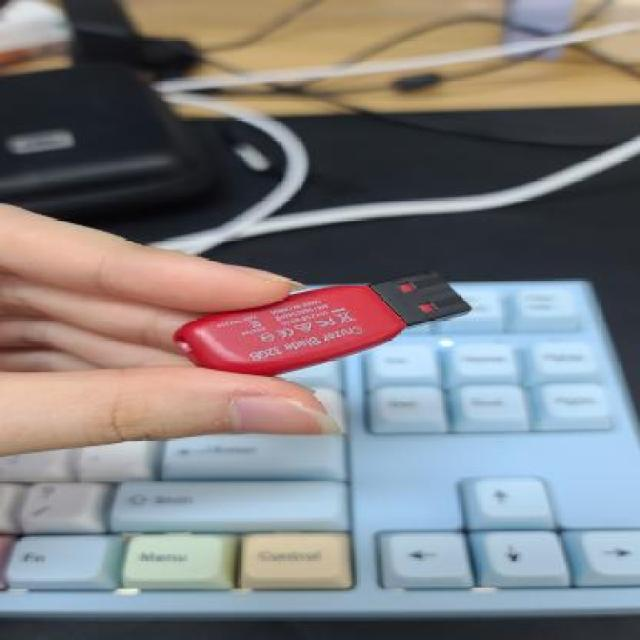Flashdisk: (175, 267, 473, 378)
